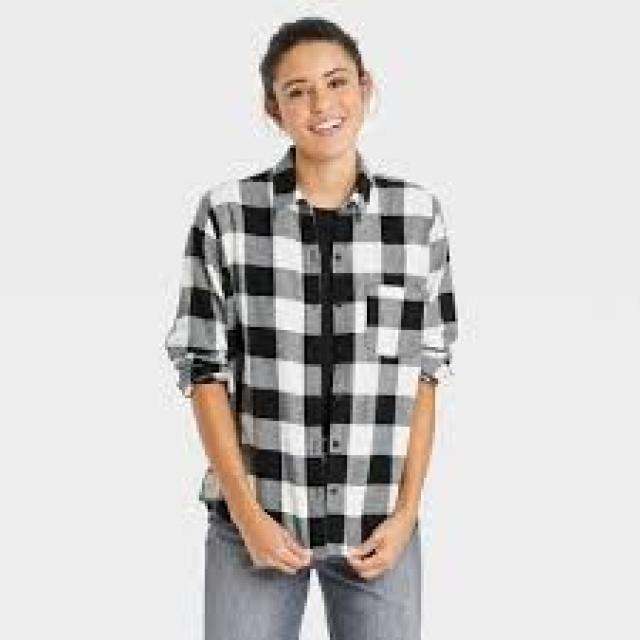plaid: (168, 143, 462, 572)
